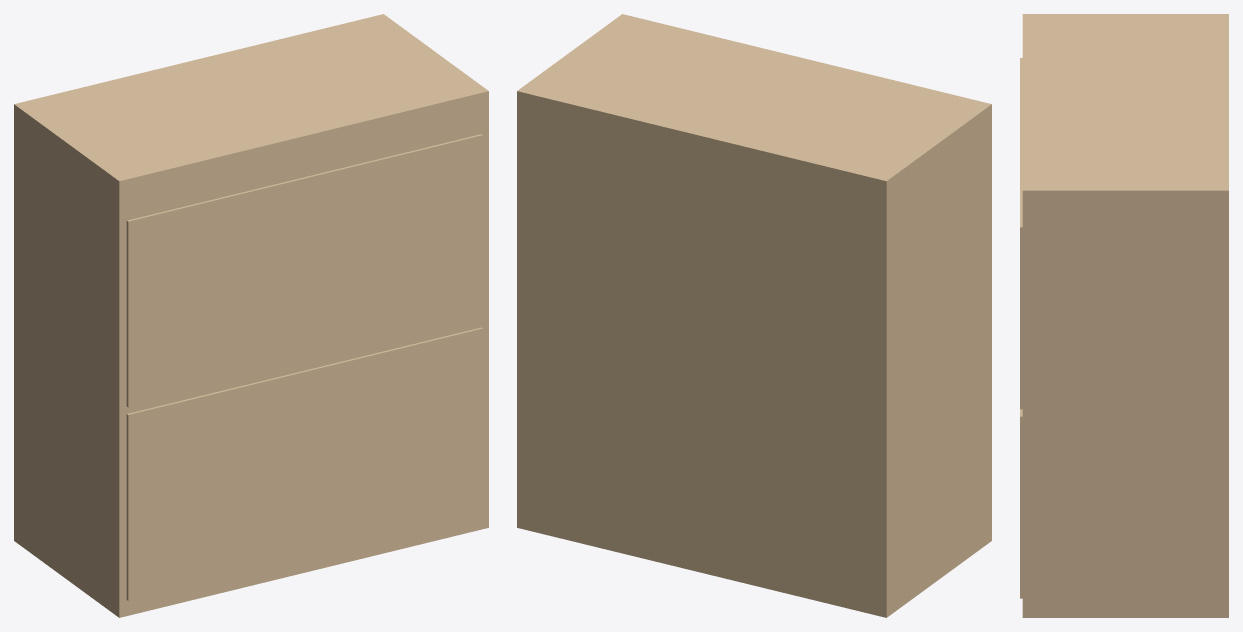
Rendered from fixed-f-kitchen-timber_wall_cupboard-2cb384d857.glb.
The picture shows the model from 3 angles, left to right: view 1: azimuth 30°, elevation 25°; view 2: azimuth 150°, elevation 25°; view 3: azimuth 270°, elevation 25°; orthographic projection. The views are drawn at different scales.
Parts seen in each view (by area): view 1: part-00, drawer-1, drawer-2; view 2: part-00; view 3: part-00, drawer-2, drawer-1.
Boxes of the visible parts, left/top/right/bottom form: part-00: left=14, top=14, right=488, bottom=617; drawer-1: left=126, top=327, right=482, bottom=600; drawer-2: left=126, top=134, right=482, bottom=407; part-00: left=517, top=14, right=991, bottom=617; part-00: left=1022, top=14, right=1228, bottom=617; drawer-2: left=1020, top=58, right=1022, bottom=409; drawer-1: left=1020, top=409, right=1022, bottom=598.
Bounding box in the file's own units: 0.62 × 0.7 × 0.31.
